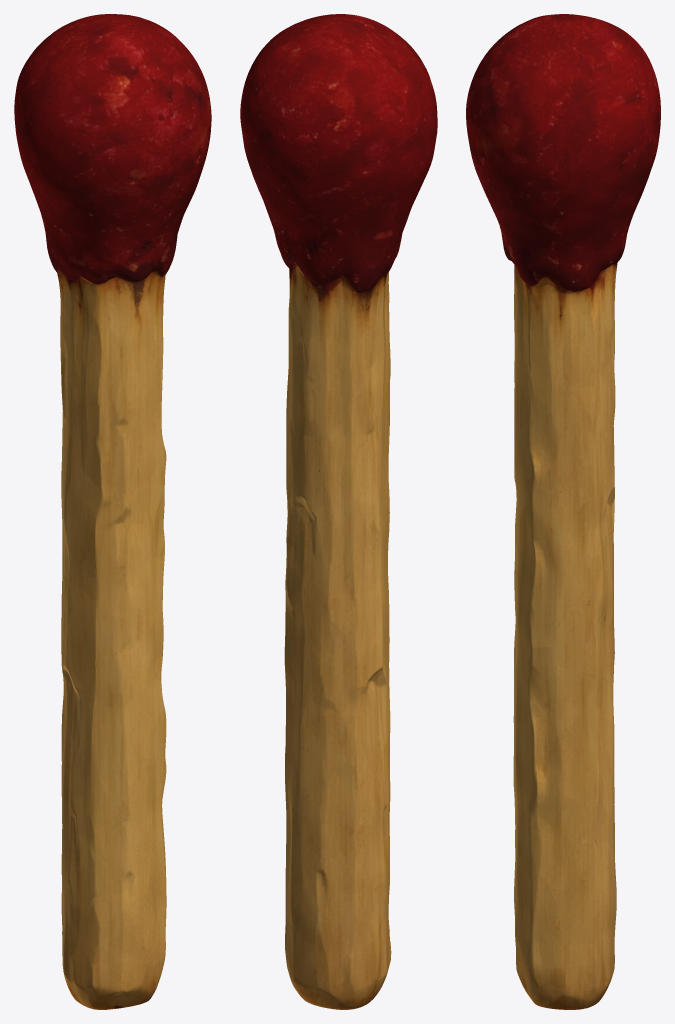
File: match.glb
The picture shows the model from 3 angles, left to right: view 1: azimuth 30°, elevation 25°; view 2: azimuth 150°, elevation 25°; view 3: azimuth 270°, elevation 25°; orthographic projection.
Visible parts, largest first — view 1: Mesh_0; view 2: Mesh_0; view 3: Mesh_0.
Boxes of the visible parts, x1=… form: Mesh_0: x1=14, y1=14, x2=211, y2=1009; Mesh_0: x1=240, y1=14, x2=437, y2=1009; Mesh_0: x1=466, y1=14, x2=660, y2=1009.
Size of the model in its own units: 0.349 by 1.9 by 0.3451.
Materials: 1 (1 with a texture image).
